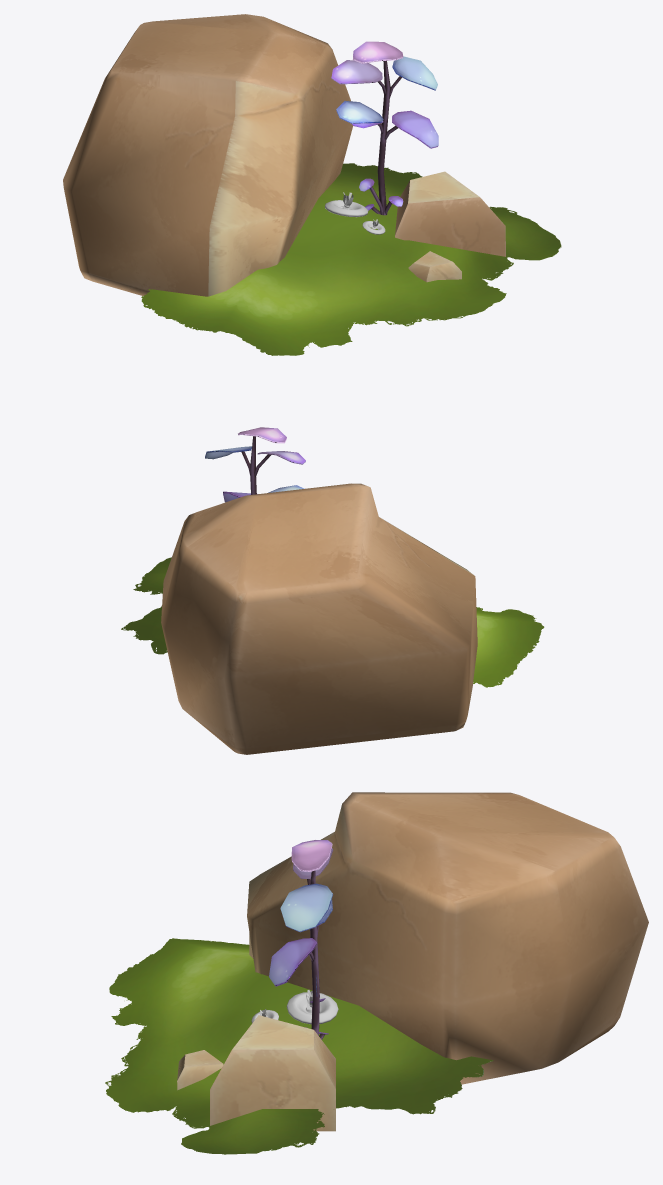
File: Vegetation_Group_3.fbx
3 views of the same model, one above another, from view 1: azimuth 30°, elevation 25°; view 2: azimuth 150°, elevation 25°; view 3: azimuth 270°, elevation 25° (orthographic). The views are drawn at different scales.
Visible parts, largest first — view 1: MS_Remains3, Moss_Plane, MS_Remains2, MS_TallPlant, MS_Remains1, MS_RoundPlant1; view 2: MS_Remains3, Moss_Plane, MS_TallPlant; view 3: MS_Remains3, Moss_Plane, MS_Remains2, MS_TallPlant, MS_Remains1, MS_RoundPlant1.
Part boxes in pixels (<box>): MS_Remains3: <box>63,14,352,296</box>; Moss_Plane: <box>141,163,561,355</box>; MS_Remains2: <box>395,171,505,256</box>; MS_TallPlant: <box>331,41,438,215</box>; MS_Remains1: <box>408,251,461,282</box>; MS_RoundPlant1: <box>325,192,368,217</box>; MS_Remains3: <box>161,483,477,754</box>; Moss_Plane: <box>121,557,544,687</box>; MS_TallPlant: <box>205,427,305,502</box>; MS_Remains3: <box>247,792,648,1084</box>; Moss_Plane: <box>105,938,493,1154</box>; MS_Remains2: <box>210,1015,335,1131</box>; MS_TallPlant: <box>269,840,333,1039</box>; MS_Remains1: <box>177,1050,223,1090</box>; MS_RoundPlant1: <box>286,990,338,1024</box>.
Size of the model in its own units: 9.47 by 4.73 by 11.03.
